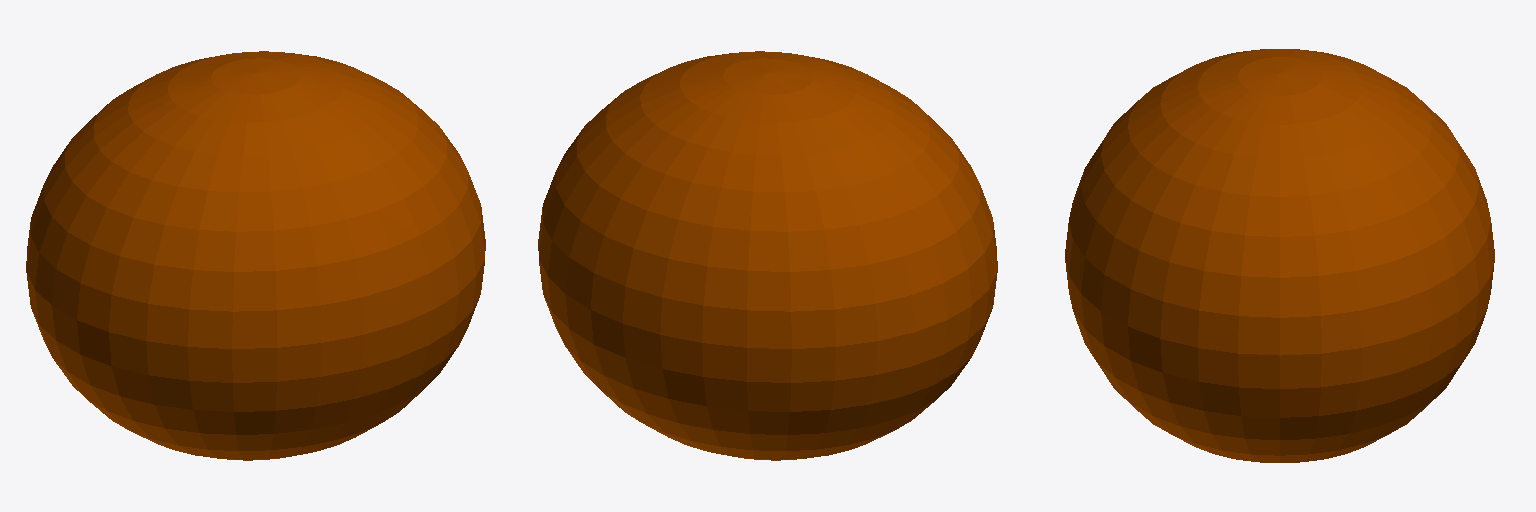
The model's file is moya_airpot_o.obj.
The picture shows the model from 3 angles: view 1: azimuth 30°, elevation 25°; view 2: azimuth 150°, elevation 25°; view 3: azimuth 270°, elevation 25°; orthographic projection.
Parts seen in each view (by area): view 1: Sphere_Sphere.005_Sphere_Sphere.008; view 2: Sphere_Sphere.005_Sphere_Sphere.008; view 3: Sphere_Sphere.005_Sphere_Sphere.008.
Boxes of the visible parts, box(x1,y1,x2,y2) form: Sphere_Sphere.005_Sphere_Sphere.008: box(26, 51, 485, 460); Sphere_Sphere.005_Sphere_Sphere.008: box(538, 51, 997, 460); Sphere_Sphere.005_Sphere_Sphere.008: box(1065, 49, 1494, 462).
Bounding box in the file's own units: 0.2297 × 0.1969 × 0.21.